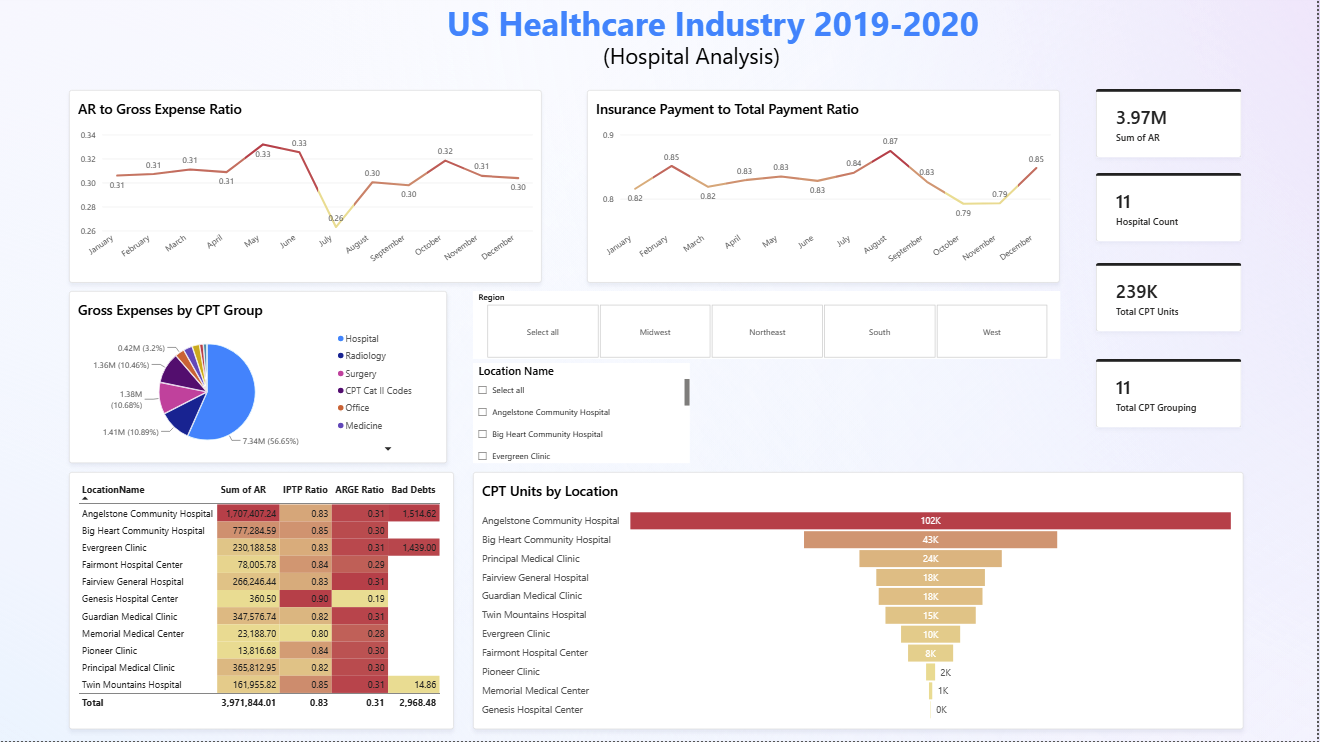

Layout of this report page (visuals, bound fields, positions):
{"tool":"powerbi","page":{"name":"Hospital Analysis","canvas":[1920,1080],"ordinal":2},"visuals":[{"type":"textbox","box":[652.8,0,869.1,84.2],"z":0},{"type":"textbox","box":[880.3,58.3,297.3,72.9],"z":1000},{"type":"lineChart","title":"AR to Gross Expense Ratio","fields":{"Category":["DimDate.Start_Of_Month.Variation.Date Hierarchy.Month"],"Y":["Measure / Calculations.ARGE Ratio"]},"box":[102.3,130.9,689,281],"z":2000},{"type":"lineChart","title":"Insurance Payment to Total Payment Ratio","fields":{"Category":["DimDate.Start_Of_Month.Variation.Date Hierarchy.Month"],"Y":["Measure / Calculations.IPTP Ratio"]},"box":[857.7,130.9,689.2,281.4],"z":3000},{"type":"pieChart","title":"Gross Expenses by CPT Group","fields":{"Category":["DimCptCode.CptGrouping"],"Y":["Measure / Calculations.Total Gross Expenses"]},"box":[102.3,424.3,550.7,251.3],"z":4000},{"type":"tableEx","fields":{"Values":["DimHospital.LocationName","Sum(FactTable.AR)","Measure / Calculations.IPTP Ratio","Measure / Calculations.ARGE Ratio","Measure / Calculations.Bad Debts"]},"box":[102.3,687.6,561.3,374.7],"z":5000},{"type":"funnel","title":"CPT Units by Location","fields":{"Category":["DimHospital.LocationName"],"Y":["Sum(FactTable.CPTUnits)"]},"box":[690.7,687.6,1122.5,374.7],"z":6000},{"type":"cardVisual","fields":{"Data":["Sum(FactTable.AR)"]},"box":[1599.5,129.4,213,100.3],"z":7000},{"type":"cardVisual","fields":{"Data":["CountNonNull(DimHospital.dimLocationPK)"]},"box":[1599.5,252.8,213,100.3],"z":8000},{"type":"cardVisual","fields":{"Data":["Sum(FactTable.CPTUnits)"]},"box":[1599.5,383.7,213,100.3],"z":9000},{"type":"cardVisual","fields":{"Data":["Count(DimCptCode.CptGrouping)"]},"box":[1599.5,523.6,213,100.3],"z":10000},{"type":"slicer","fields":{"Values":["DimPatient.Region"]},"box":[690.7,424.3,856.2,99.3],"z":11000},{"type":"slicer","fields":{"Values":["DimHospital.LocationName"]},"box":[690.7,529.7,316,146],"z":12000}]}

Visuals, with their boxes in screenshot pixels (x1, y1, x2, y2), scaled from the page's 1920x1080 canvas onto the 1320x742 screenshot:
textbox: x1=449 y1=0 x2=1046 y2=58
textbox: x1=605 y1=40 x2=810 y2=90
"AR to Gross Expense Ratio" lineChart: x1=70 y1=90 x2=544 y2=283
"Insurance Payment to Total Payment Ratio" lineChart: x1=590 y1=90 x2=1063 y2=283
"Gross Expenses by CPT Group" pieChart: x1=70 y1=292 x2=449 y2=464
tableEx - DimHospital.LocationName x Sum(FactTable.AR): x1=70 y1=472 x2=456 y2=730
"CPT Units by Location" funnel: x1=475 y1=472 x2=1247 y2=730
cardVisual - Sum(FactTable.AR): x1=1100 y1=89 x2=1246 y2=158
cardVisual - CountNonNull(DimHospital.dimLocationPK): x1=1100 y1=174 x2=1246 y2=243
cardVisual - Sum(FactTable.CPTUnits): x1=1100 y1=264 x2=1246 y2=333
cardVisual - Count(DimCptCode.CptGrouping): x1=1100 y1=360 x2=1246 y2=429
slicer - DimPatient.Region: x1=475 y1=292 x2=1063 y2=360
slicer - DimHospital.LocationName: x1=475 y1=364 x2=692 y2=464
